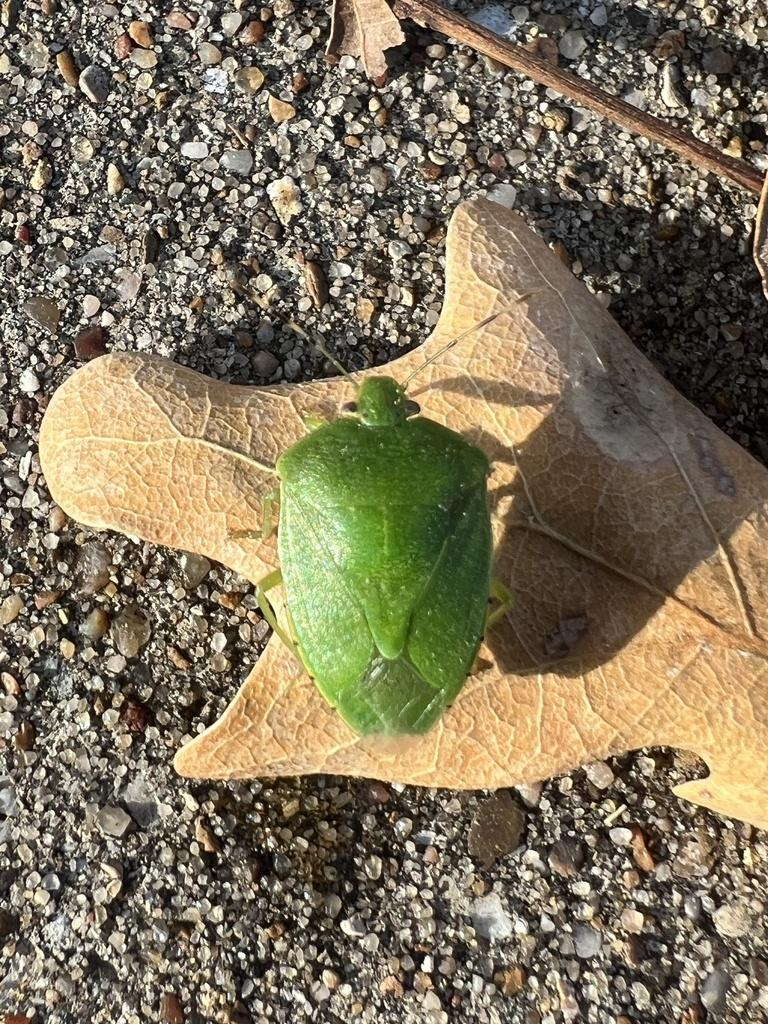stink_bugs: (162, 252, 621, 816)
